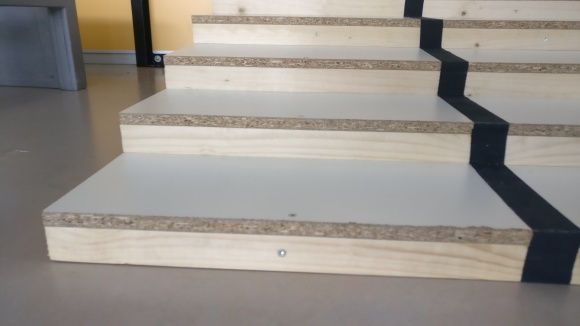stairs: (39, 1, 580, 286)
